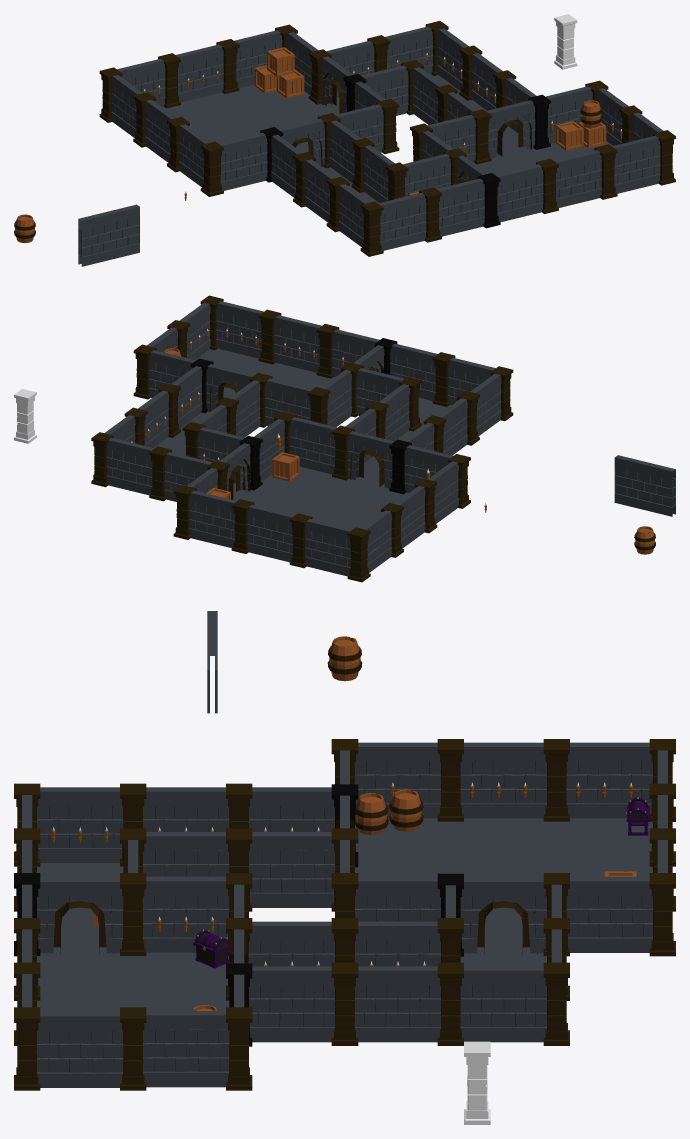
The model's file is dungeon.fbx.
3 renders of one model, top to bottom at view 1: azimuth 30°, elevation 25°; view 2: azimuth 150°, elevation 25°; view 3: azimuth 270°, elevation 25°, orthographic. The views are drawn at different scales.
Parts seen in each view (by area): view 1: wall, wall(without pillar), wall.021, wall.017, wall.020, wall.022, wall.016, wall.008, doorway.001, wall.015, wall.019, wall.009 (+42 smaller); view 2: wall(without pillar), wall.009, wall.003, wall.008, wall.021, wall.002, wall.022, doorway, wall.007, wall(without pillar).003, wall.030, wall.016 (+36 smaller); view 3: wall.024, wall.029, wall.027, wall.025, wall.006, wall.010, wall.004, wall.015, wall.007, wall.005, wall(without pillar).001, wall.018 (+44 smaller).
Boxes of the visible parts, x1,y1,x2,y2 form: wall: (200,132,267,196); wall(without pillar): (78,204,139,266); wall.021: (553,144,617,207); wall.017: (436,173,500,236); wall.020: (495,158,558,222); wall.022: (612,130,675,193); wall.016: (378,187,441,250); wall.008: (175,39,239,102); doorway.001: (486,94,550,158); wall.015: (338,184,383,256); wall.019: (427,109,491,164); wall.009: (117,53,180,108); wall(without pillar): (614,455,675,516); wall.009: (289,513,352,576); wall.003: (173,485,236,547); wall.008: (231,499,294,562); wall.021: (258,309,321,372); wall.002: (289,417,354,480); wall.022: (200,295,263,358); doorway: (347,431,411,494); wall.007: (347,510,392,582); wall(without pillar).003: (106,437,154,495); wall.030: (149,446,212,501); wall.016: (432,352,495,406); wall.024: (120,1007,229,1090); wall.029: (460,962,569,1045); wall.027: (355,962,463,1045); wall.025: (249,962,358,1045); wall.006: (460,739,569,821); wall.010: (226,828,334,911); wall.004: (543,873,652,956); wall.015: (14,783,123,866); wall.007: (566,739,675,821); wall.005: (355,739,463,821); wall(without pillar).001: (37,1011,123,1087); wall.018: (143,873,252,955).
Bounding box in the file's own units: 4103 × 312 × 2500.
